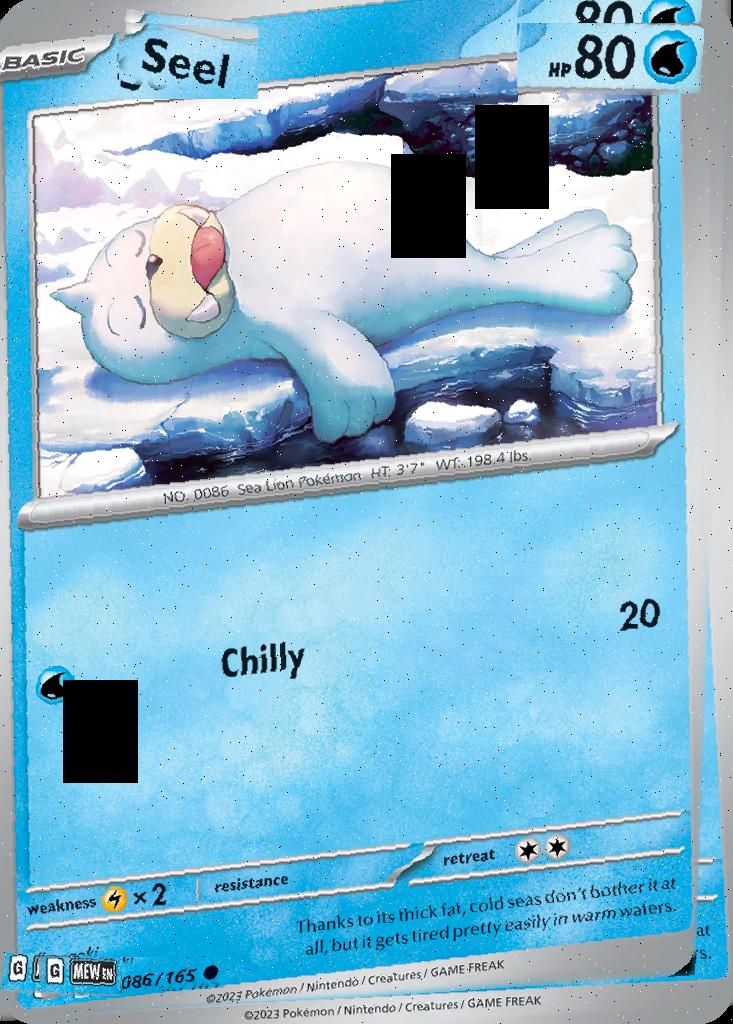card: (0, 0, 733, 1024)
hp: (517, 23, 704, 105)
name: (119, 23, 258, 100)
set num: (120, 958, 227, 995)
set symbol: (38, 958, 122, 1000)
